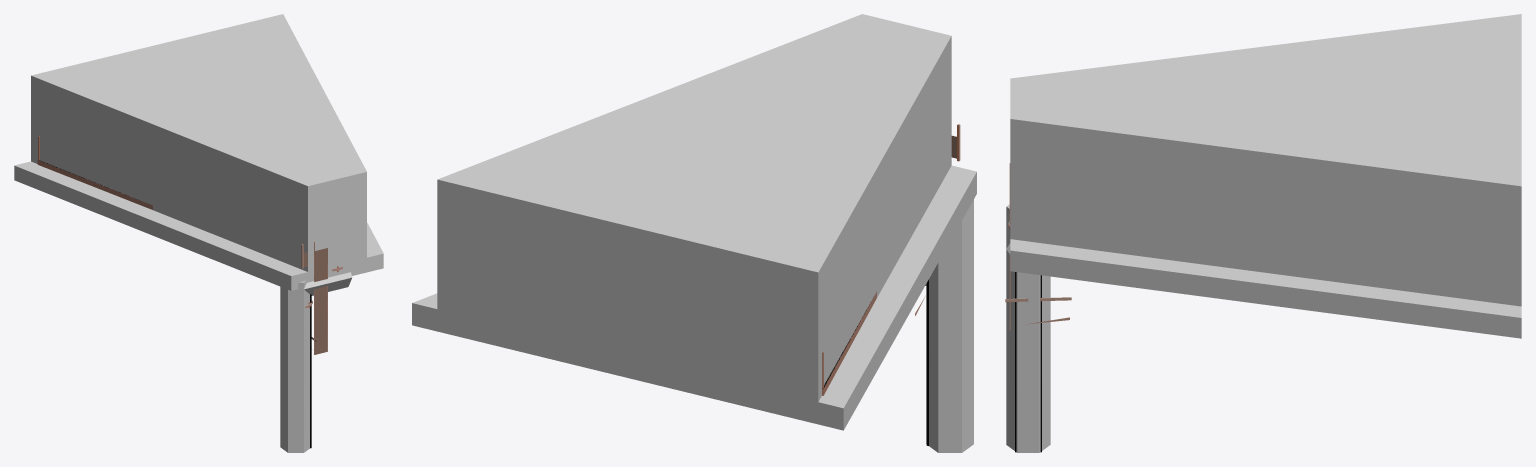
File: billboard_structure2.dae
The picture shows the model from 3 angles, left to right: view 1: azimuth 30°, elevation 25°; view 2: azimuth 150°, elevation 25°; view 3: azimuth 270°, elevation 25°; orthographic projection. The views are drawn at different scales.
Parts seen in each view (by area): view 1: Colmesh-1, billboard_structure2_a600, billboard_structure2_a180; view 2: Colmesh-1, billboard_structure2_a600, billboard_structure2_a180; view 3: Colmesh-1, billboard_structure2_a180.
Boxes of the visible parts, box(x1,y1,x2,y2) form: Colmesh-1: box(14, 14, 383, 452); billboard_structure2_a600: box(37, 136, 342, 354); billboard_structure2_a180: box(39, 160, 311, 448); Colmesh-1: box(412, 14, 976, 452); billboard_structure2_a600: box(822, 124, 960, 395); billboard_structure2_a180: box(822, 279, 928, 445); Colmesh-1: box(1006, 14, 1521, 452); billboard_structure2_a180: box(1015, 272, 1041, 452).
Size of the model in its own units: 12.55 by 14.03 by 11.09.
